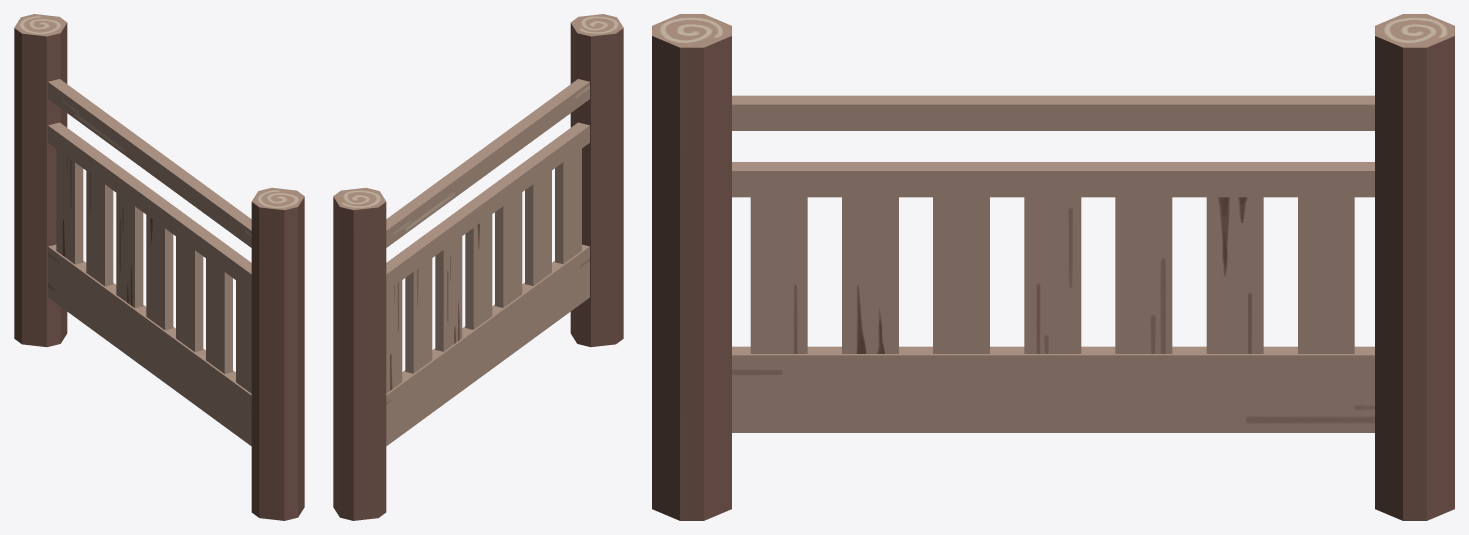
File: Fence C.fbx
3 renders of one model, left to right at view 1: azimuth 30°, elevation 25°; view 2: azimuth 150°, elevation 25°; view 3: azimuth 270°, elevation 25°, orthographic. The views are drawn at different scales.
Visible parts, largest first — view 1: 立方体.018; view 2: 立方体.018; view 3: 立方体.018.
Boxes of the visible parts, x1=… form: 立方体.018: x1=14, y1=14, x2=304, y2=520; 立方体.018: x1=333, y1=14, x2=623, y2=520; 立方体.018: x1=652, y1=14, x2=1454, y2=520.
Size of the model in its own units: 56.16 by 368 by 565.
Materials: 1 (1 with a texture image).
